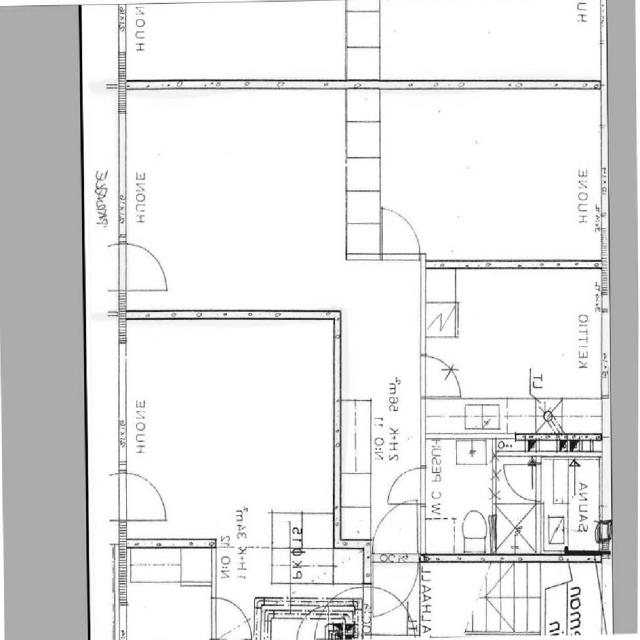door: (114, 234, 174, 301), (374, 200, 430, 265), (369, 504, 422, 570), (117, 468, 172, 524), (368, 568, 416, 627), (494, 457, 541, 506), (417, 350, 462, 400), (210, 595, 255, 638), (383, 464, 429, 506)
window: (470, 252, 599, 278), (110, 321, 136, 439)
zone: (124, 318, 346, 584), (120, 85, 368, 318), (376, 85, 604, 264), (424, 265, 611, 436), (368, 0, 587, 94), (136, 0, 346, 91), (115, 542, 214, 640), (424, 436, 494, 555), (539, 447, 608, 552)
